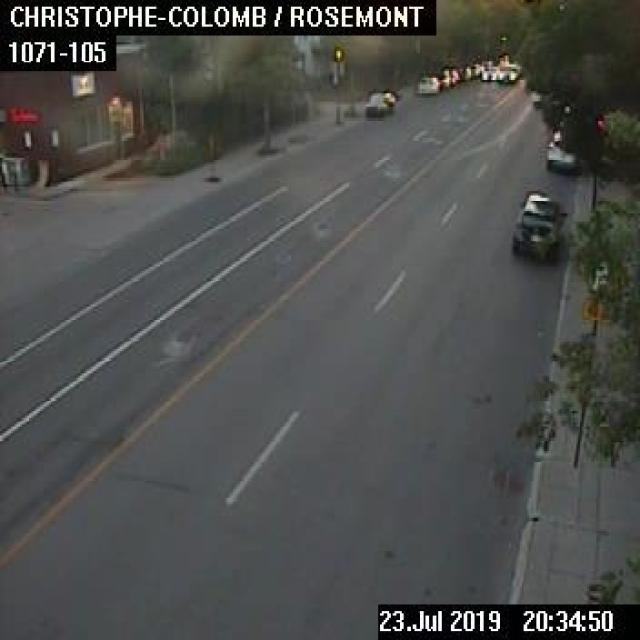vehicle: (512, 193, 566, 260), (544, 130, 577, 168), (364, 90, 394, 115), (497, 63, 521, 81), (417, 75, 438, 93), (439, 68, 457, 86), (480, 65, 496, 79), (470, 62, 482, 74)
